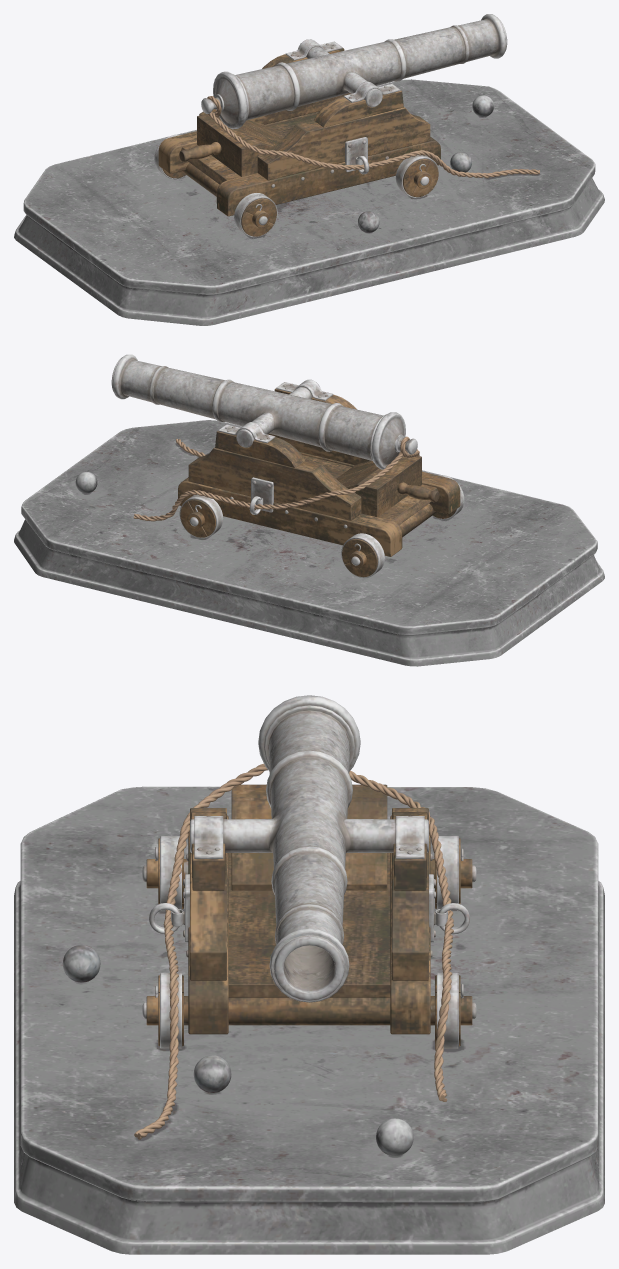
Rendered from old_cannon.gltf.
The picture shows the model from 3 angles, top to bottom: view 1: azimuth 30°, elevation 25°; view 2: azimuth 150°, elevation 25°; view 3: azimuth 270°, elevation 25°; orthographic projection. The views are drawn at different scales.
Parts seen in each view (by area): view 1: old_cannon; view 2: old_cannon; view 3: old_cannon.
Boxes of the visible parts, left/top/right/bottom form: old_cannon: left=14, top=14, right=604, bottom=325; old_cannon: left=14, top=354, right=604, bottom=666; old_cannon: left=14, top=695, right=604, bottom=1254.
Bounding box in the file's own units: 14.43 × 4.68 × 8.76.
